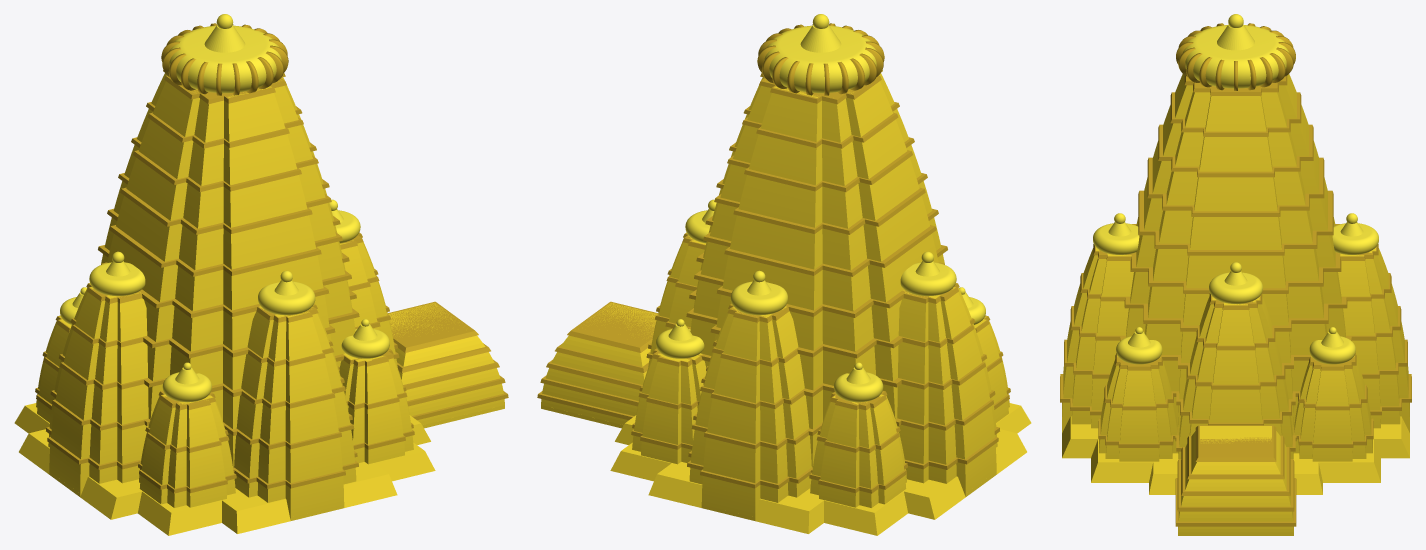
File: deck-temple-spire.glb
3 renders of one model, left to right at view 1: azimuth 30°, elevation 25°; view 2: azimuth 150°, elevation 25°; view 3: azimuth 270°, elevation 25°, orthographic. The views are drawn at different scales.
Visible parts, largest first — view 1: single_tapered_cross_plinth_source_1p5_scale, main_lugged_vimana_rounded_amalaka_base, projecting_entrance_unit_slice_020_storey_enlarged, main_ten_storey_unit_slice_060_storey_enlarged, main_ten_storey_unit_slice_070_storey_enlarged, main_ten_storey_unit_slice_080_storey_enlarged, secondary_south_smooth_vimana_rounded_amalaka_base, main_ten_storey_unit_slice_050_storey_enlarged, secondary_west_smooth_vimana_rounded_amalaka_base, main_ten_storey_unit_slice_090_storey_enlarged, main_ten_storey_unit_slice_040_storey_enlarged, main_ten_storey_unit_slice_058 (+62 smaller); view 2: single_tapered_cross_plinth_source_1p5_scale, main_lugged_vimana_rounded_amalaka_base, projecting_entrance_unit_slice_020_storey_enlarged, main_ten_storey_unit_slice_060_storey_enlarged, main_ten_storey_unit_slice_070_storey_enlarged, main_ten_storey_unit_slice_080_storey_enlarged, secondary_north_smooth_vimana_rounded_amalaka_base, main_ten_storey_unit_slice_050_storey_enlarged, secondary_west_smooth_vimana_rounded_amalaka_base, main_ten_storey_unit_slice_090_storey_enlarged, main_ten_storey_unit_slice_040_storey_enlarged, main_ten_storey_unit_slice_058 (+62 smaller); view 3: single_tapered_cross_plinth_source_1p5_scale, main_lugged_vimana_rounded_amalaka_base, projecting_entrance_unit_slice_020_storey_enlarged, main_ten_storey_unit_slice_060_storey_enlarged, main_ten_storey_unit_slice_070_storey_enlarged, main_ten_storey_unit_slice_080_storey_enlarged, main_ten_storey_unit_slice_050_storey_enlarged, main_ten_storey_unit_slice_040_storey_enlarged, secondary_east_smooth_vimana_rounded_amalaka_base, main_ten_storey_unit_slice_090_storey_enlarged, projecting_entrance_unit_slice_020, projecting_entrance_unit_slice_008_storey_enlarged (+100 smaller).
Part boxes in pixels (<box>): single_tapered_cross_plinth_source_1p5_scale: <box>14,403,435,535</box>; main_lugged_vimana_rounded_amalaka_base: <box>169,25,281,93</box>; projecting_entrance_unit_slice_020_storey_enlarged: <box>388,301,478,352</box>; main_ten_storey_unit_slice_060_storey_enlarged: <box>107,208,342,276</box>; main_ten_storey_unit_slice_070_storey_enlarged: <box>118,173,331,234</box>; main_ten_storey_unit_slice_080_storey_enlarged: <box>131,137,318,192</box>; secondary_south_smooth_vimana_rounded_amalaka_base: <box>258,281,315,315</box>; main_ten_storey_unit_slice_050_storey_enlarged: <box>98,245,351,317</box>; secondary_west_smooth_vimana_rounded_amalaka_base: <box>89,262,145,296</box>; main_ten_storey_unit_slice_090_storey_enlarged: <box>146,102,303,148</box>; main_ten_storey_unit_slice_040_storey_enlarged: <box>143,289,359,358</box>; main_ten_storey_unit_slice_058: <box>111,218,338,282</box>; single_tapered_cross_plinth_source_1p5_scale: <box>610,403,1031,535</box>; main_lugged_vimana_rounded_amalaka_base: <box>764,25,876,93</box>; projecting_entrance_unit_slice_020_storey_enlarged: <box>567,301,657,352</box>; main_ten_storey_unit_slice_060_storey_enlarged: <box>703,208,938,276</box>; main_ten_storey_unit_slice_070_storey_enlarged: <box>714,173,927,234</box>; main_ten_storey_unit_slice_080_storey_enlarged: <box>727,137,914,192</box>; secondary_north_smooth_vimana_rounded_amalaka_base: <box>730,281,787,315</box>; main_ten_storey_unit_slice_050_storey_enlarged: <box>694,245,947,317</box>; secondary_west_smooth_vimana_rounded_amalaka_base: <box>900,262,956,296</box>; main_ten_storey_unit_slice_090_storey_enlarged: <box>742,102,899,148</box>; main_ten_storey_unit_slice_040_storey_enlarged: <box>686,289,902,358</box>; main_ten_storey_unit_slice_058: <box>707,218,934,282</box>; single_tapered_cross_plinth_source_1p5_scale: <box>1062,416,1409,494</box>; main_lugged_vimana_rounded_amalaka_base: <box>1183,25,1288,88</box>; projecting_entrance_unit_slice_020_storey_enlarged: <box>1195,425,1276,461</box>; main_ten_storey_unit_slice_060_storey_enlarged: <box>1138,190,1333,255</box>; main_ten_storey_unit_slice_070_storey_enlarged: <box>1147,157,1324,216</box>; main_ten_storey_unit_slice_080_storey_enlarged: <box>1158,124,1313,177</box>; main_ten_storey_unit_slice_050_storey_enlarged: <box>1130,224,1341,293</box>; main_ten_storey_unit_slice_040_storey_enlarged: <box>1124,296,1347,331</box>; secondary_east_smooth_vimana_rounded_amalaka_base: <box>1209,272,1262,303</box>; main_ten_storey_unit_slice_090_storey_enlarged: <box>1170,92,1301,136</box>; projecting_entrance_unit_slice_020: <box>1200,426,1271,443</box>; projecting_entrance_unit_slice_008_storey_enlarged: <box>1177,459,1294,511</box>.
Bounding box in the file's own units: 116 × 116 × 90.92.
